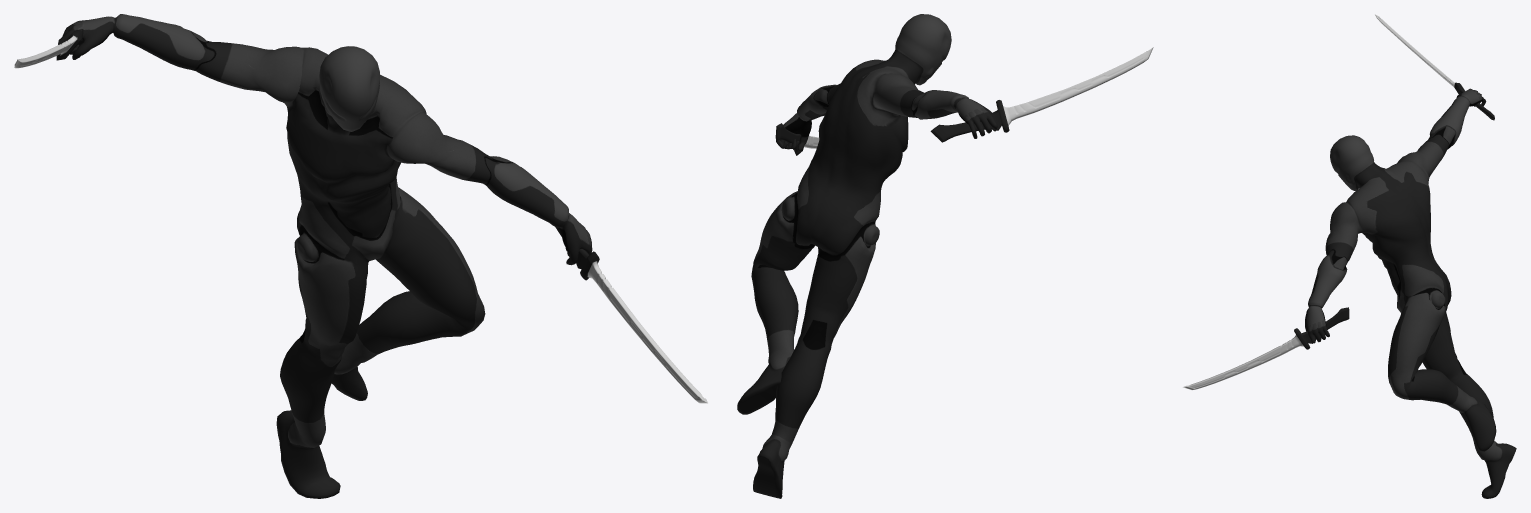
3 views of the same model, side by side, from view 1: azimuth 30°, elevation 25°; view 2: azimuth 150°, elevation 25°; view 3: azimuth 270°, elevation 25° (orthographic). The views are drawn at different scales.
Parts seen in each view (by area): view 1: Cyborg_Ninja_Killer, Sword_l, Sword_l001; view 2: Cyborg_Ninja_Killer, Sword_l001, Sword_l; view 3: Cyborg_Ninja_Killer, Sword_l, Sword_l001.
Boxes of the visible parts, x1=… form: Cyborg_Ninja_Killer: x1=58, y1=14, x2=592, y2=498; Sword_l: x1=555, y1=227, x2=707, y2=403; Sword_l001: x1=14, y1=29, x2=83, y2=68; Cyborg_Ninja_Killer: x1=737, y1=14, x2=997, y2=498; Sword_l001: x1=930, y1=47, x2=1153, y2=142; Sword_l: x1=775, y1=123, x2=819, y2=155; Cyborg_Ninja_Killer: x1=1305, y1=88, x2=1516, y2=498; Sword_l: x1=1183, y1=307, x2=1349, y2=390; Sword_l001: x1=1375, y1=14, x2=1494, y2=120.
Size of the model in its own units: 179 by 193 by 161.
2 materials, 2 textured.
